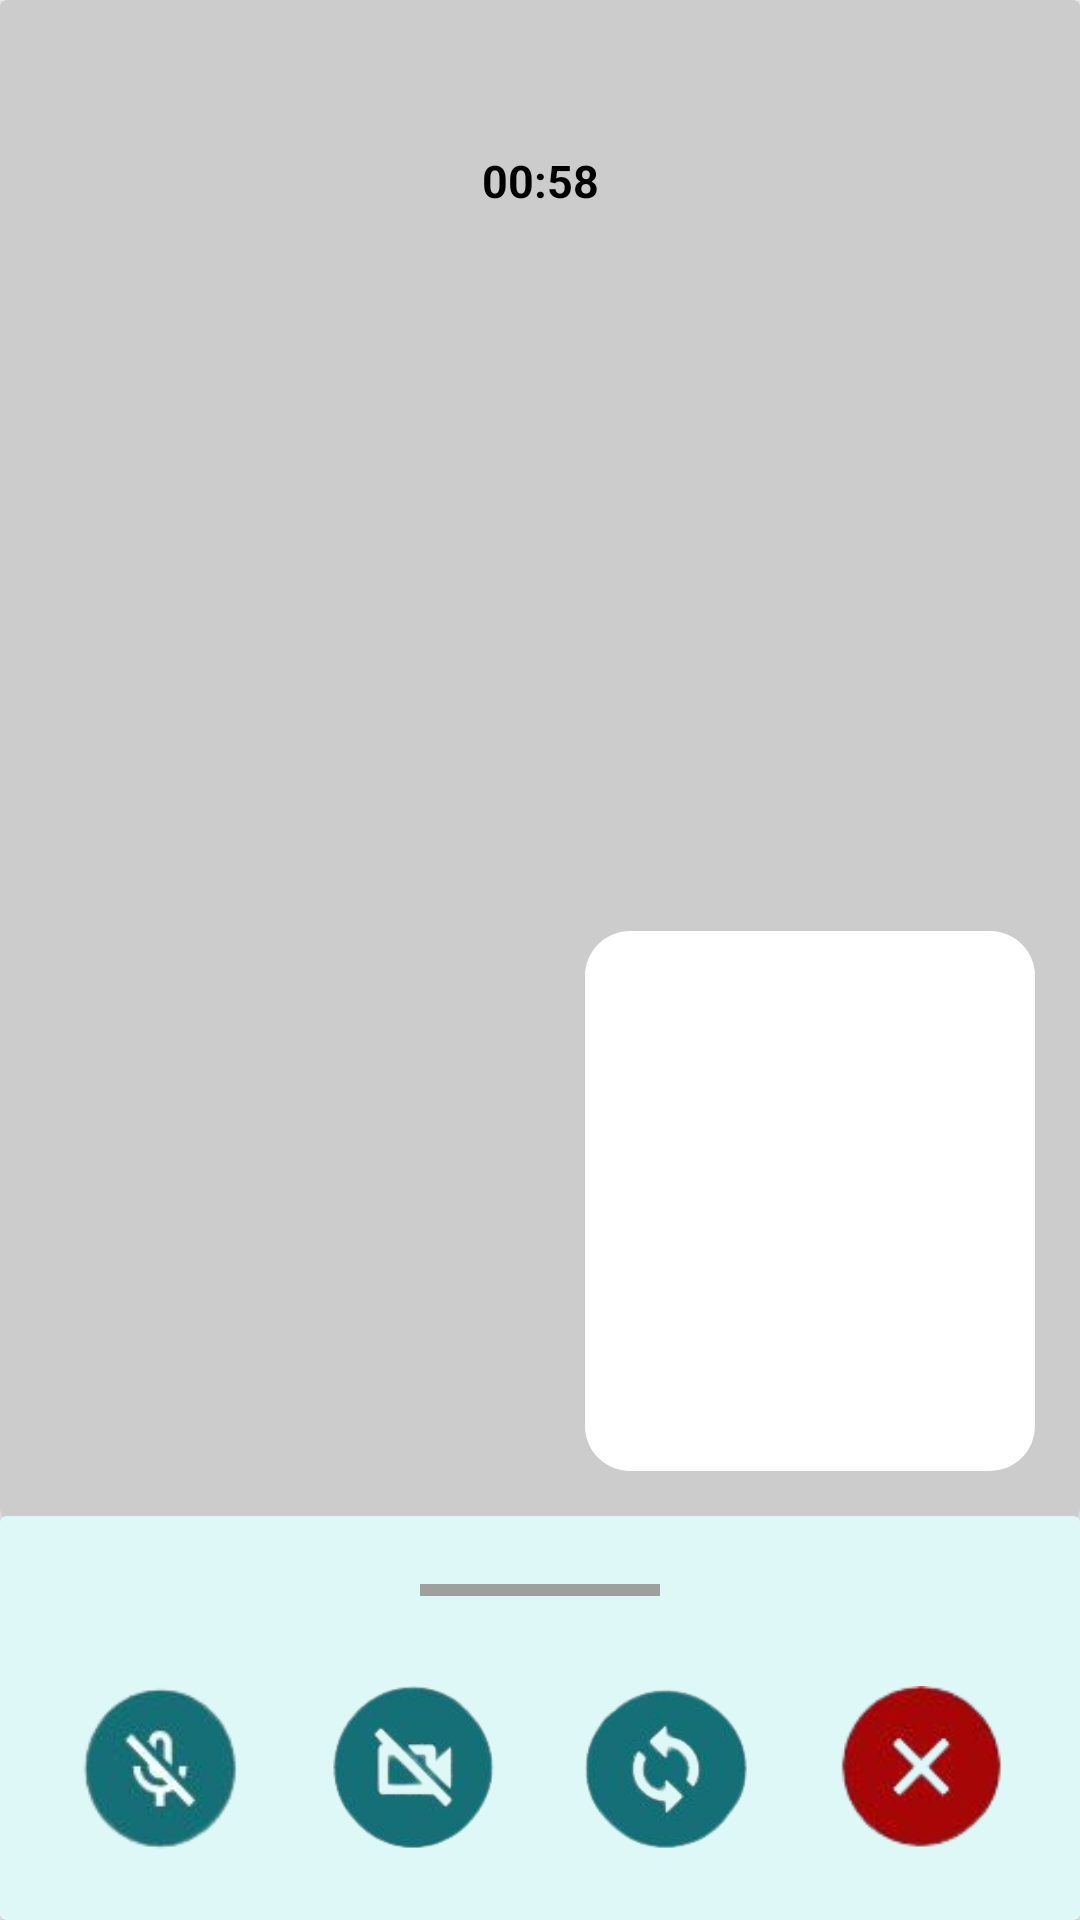

Point at icon controls on the screen. Image size 1080w x 1920h, points as (x=x, y=y).
call end: (x=921, y=1766)
video camera: (x=413, y=1767)
video cameraswitch: (x=666, y=1769)
